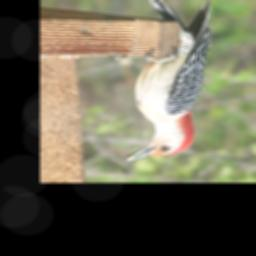Woodpecker: (120, 0, 211, 163)
